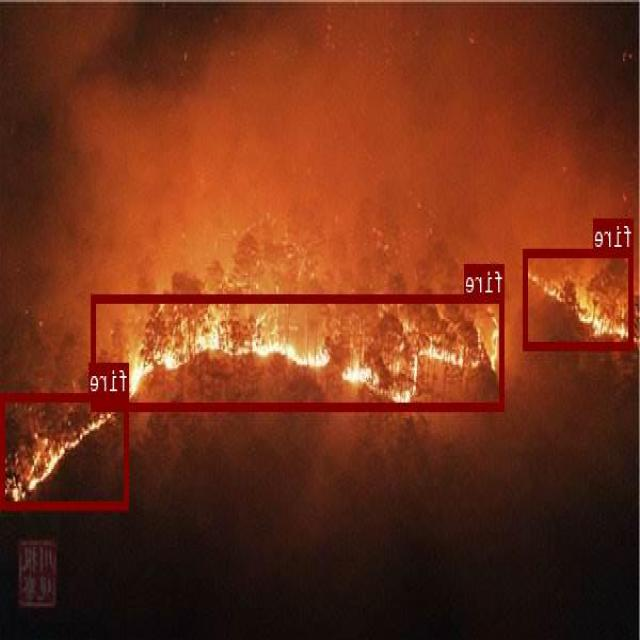fire: (92, 294, 505, 410), (2, 393, 130, 507), (524, 247, 635, 349)
